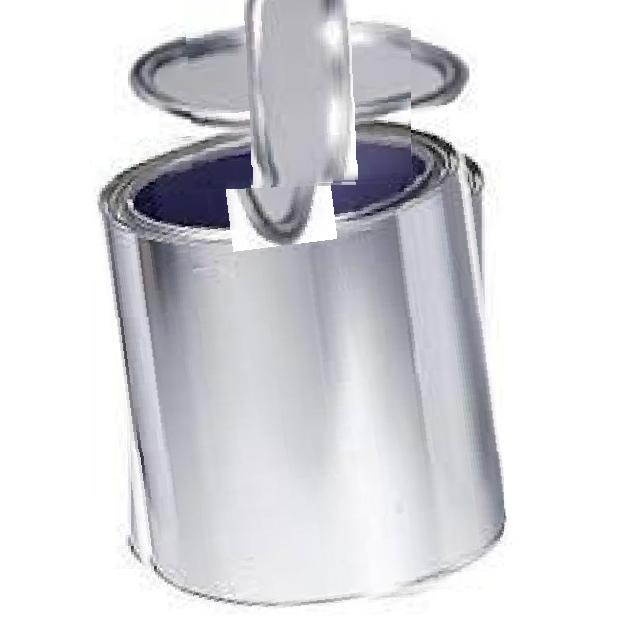recyclable: (102, 114, 504, 614), (186, 0, 411, 187)
